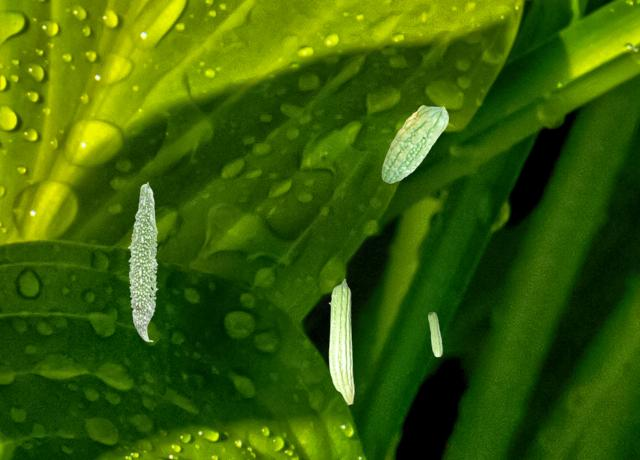ampalaya: (381, 104, 449, 183), (127, 181, 159, 342), (328, 278, 354, 405), (427, 311, 443, 357)
